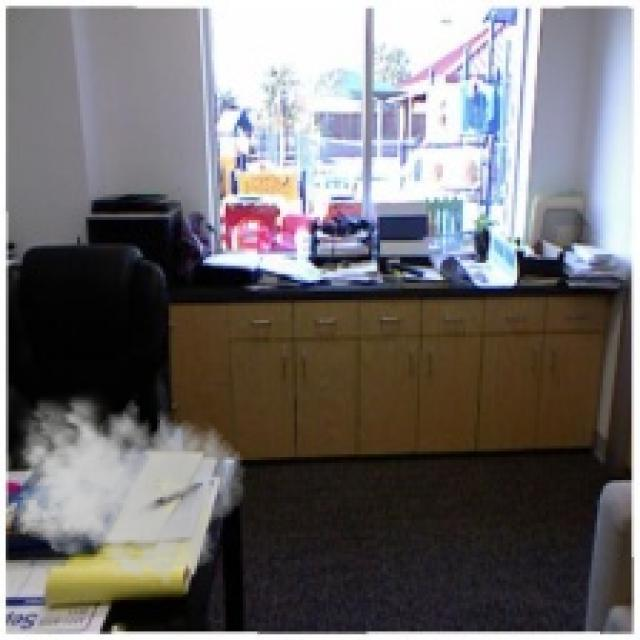Smoke: (6, 386, 246, 586)
